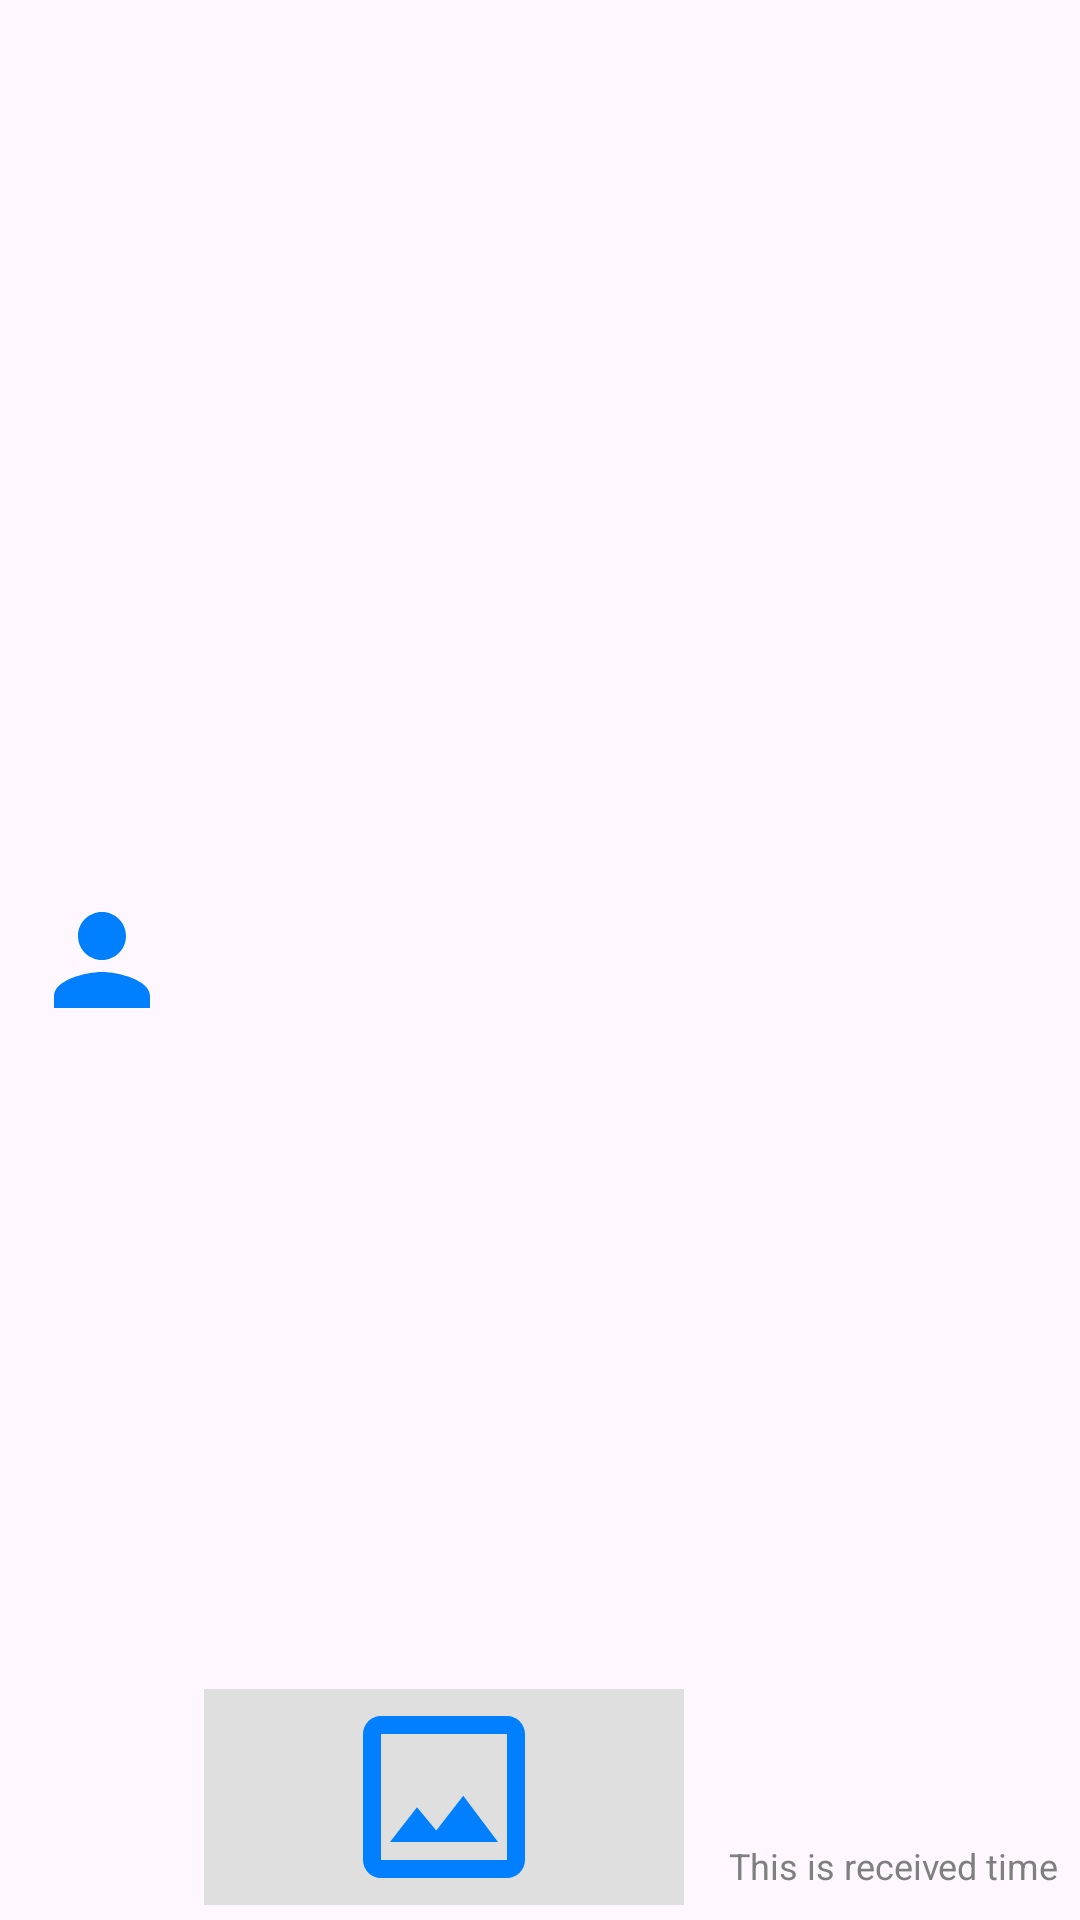

Icon bounding boxes for this 1080 x 1920 phone screenshot, format (x1,y1,x2,y2):
person: (54,912,150,1008)
